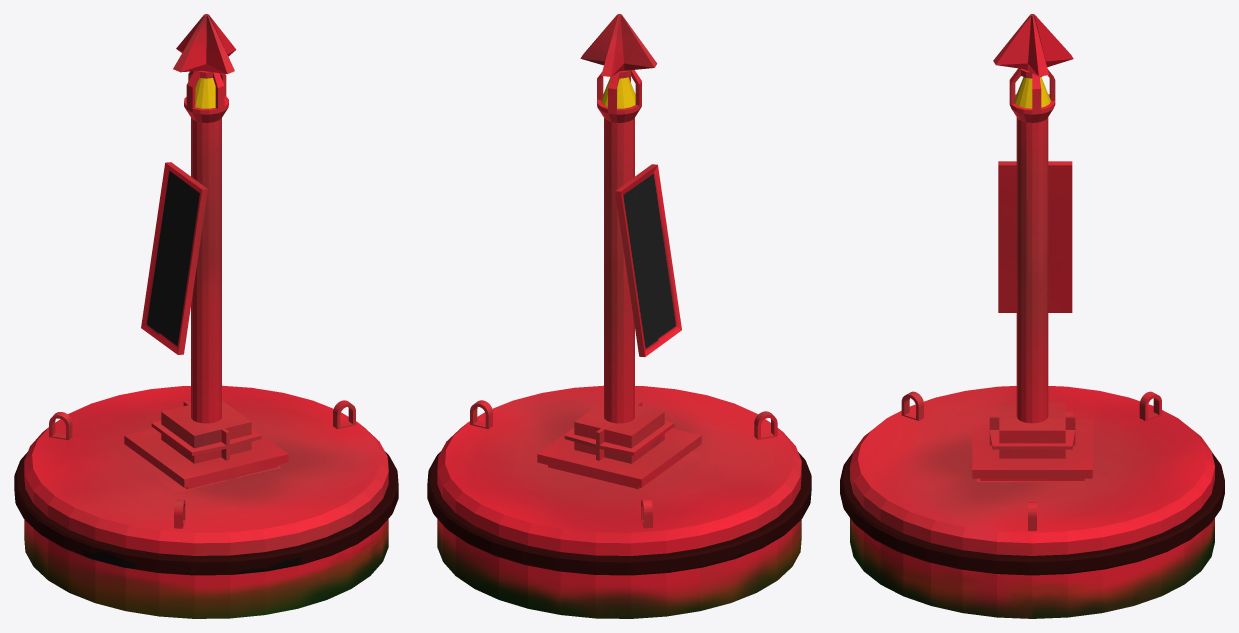
Rendered from Boya2.1.fbx.
The picture shows the model from 3 angles, left to right: view 1: azimuth 30°, elevation 25°; view 2: azimuth 150°, elevation 25°; view 3: azimuth 270°, elevation 25°; orthographic projection.
Parts seen in each view (by area): view 1: Hebilla; view 2: Hebilla; view 3: Hebilla.
Boxes of the visible parts, bbox=[...] form: Hebilla: bbox=[14, 14, 398, 618]; Hebilla: bbox=[427, 14, 811, 618]; Hebilla: bbox=[840, 14, 1224, 618].
Size of the model in its own units: 421 by 636 by 421.
Materials: 1 (1 with a texture image).
